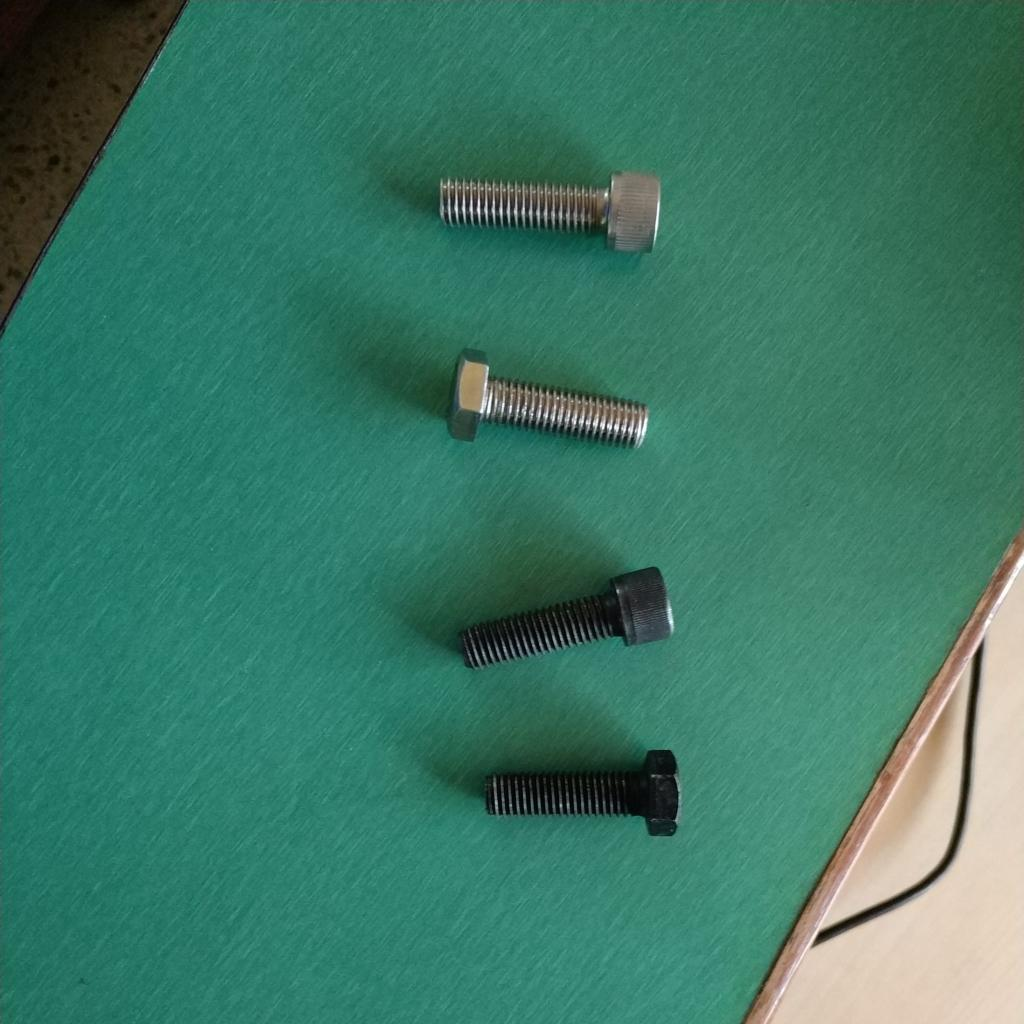screwtype1black: (455, 557, 680, 671)
screwtype1silver: (433, 160, 667, 270)
screwtype2black: (477, 744, 685, 843)
screwtype2silver: (440, 346, 648, 463)
